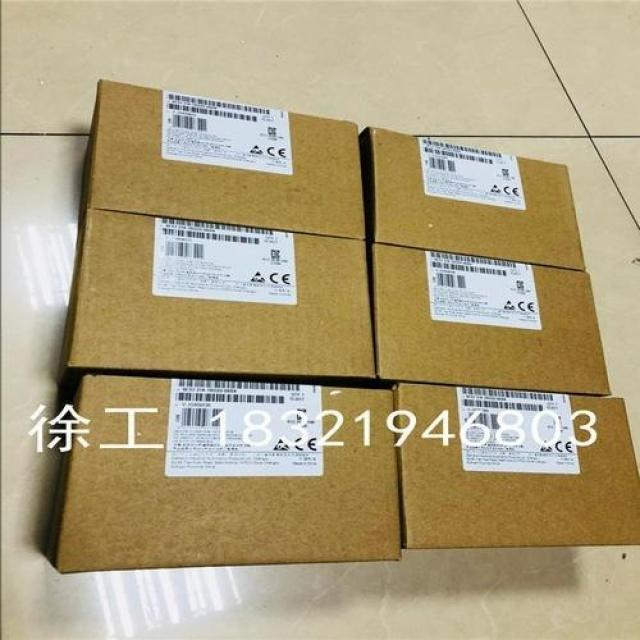box: (49, 370, 409, 564), (63, 207, 378, 385), (78, 79, 368, 245), (389, 376, 640, 548), (364, 234, 617, 398), (359, 120, 592, 272)
